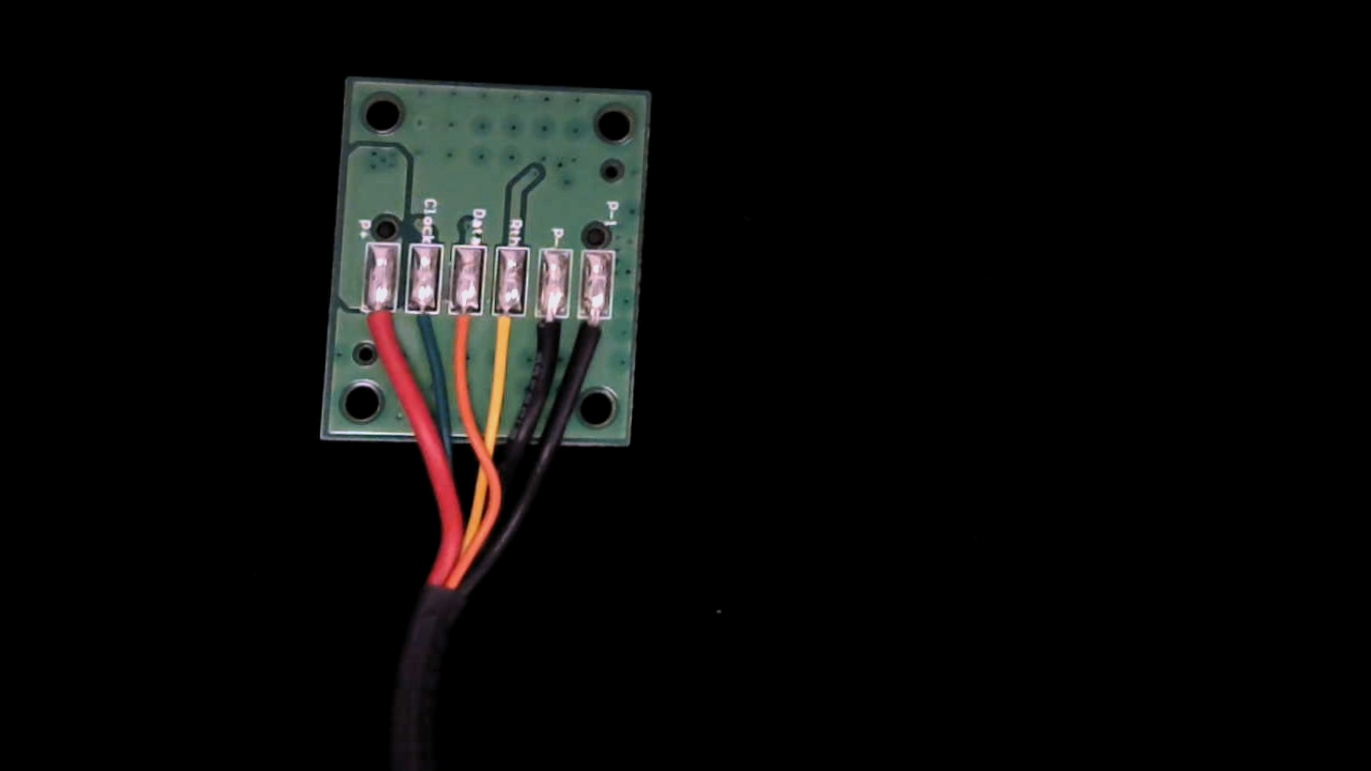Black: (531, 297, 570, 367)
Black1: (571, 297, 613, 373)
Green: (403, 293, 444, 357)
Orange: (445, 295, 479, 363)
Red: (360, 295, 399, 356)
Yellow: (489, 295, 526, 365)
